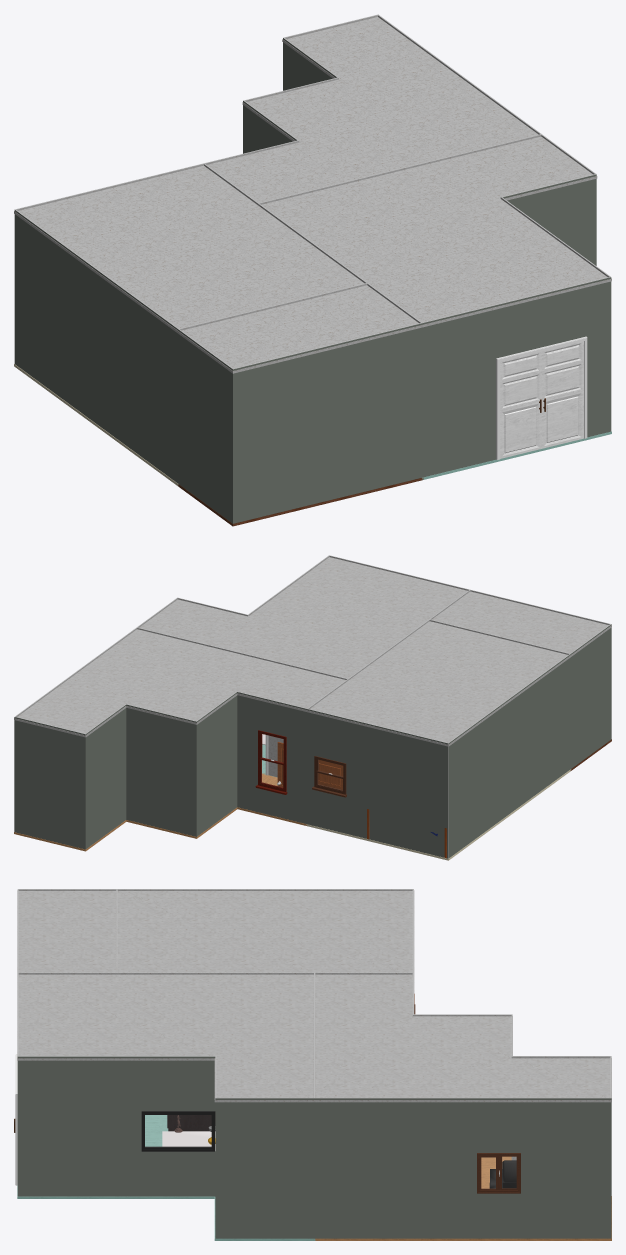
Rendered from ProcTHOR-Train-4.glb.
3 views of the same model, one above another, from view 1: azimuth 30°, elevation 25°; view 2: azimuth 150°, elevation 25°; view 3: azimuth 270°, elevation 25° (orthographic). The views are drawn at different scales.
Visible parts, largest first — view 1: Ceiling#room|6|c, Ceiling#room|4|c, Ceiling#room|7|c, WallInside#wall|exterior|6.15|12.29|10.24|12.29, WallInside#wall|exterior|10.24|4.10|10.24|10.24, WallInside#wall|exterior|2.05|12.29|6.15|12.29, Ceiling#room|5|c, WallInside#wall|exterior|10.24|10.24|10.24|12.29, WallInside#wall|exterior|0.00|8.19|2.05|8.19, Doorway_Door_8a, Doorway_Door_8b, WallInside#wall|exterior|4.10|2.05|4.10|4.10 (+4 smaller); view 2: Ceiling#room|6|c, Ceiling#room|4|c, Ceiling#room|7|c, WallInside#wall|exterior|6.15|4.10|10.24|4.10, WallInside#wall|exterior|10.24|4.10|10.24|10.24, WallInside#wall|exterior|0.00|0.00|2.05|0.00, WallInside#wall|exterior|2.05|2.05|4.10|2.05, WallInside#wall|exterior|4.10|4.10|6.15|4.10, Ceiling#room|5|c, WallInside#wall|exterior|4.10|2.05|4.10|4.10, WallInside#wall|exterior|2.05|0.00|2.05|2.05, WallInside#wall|exterior|10.24|10.24|10.24|12.29 (+6 smaller); view 3: WallInside#wall|exterior|0.00|0.00|0.00|6.15, Ceiling#room|6|c, Ceiling#room|7|c, WallInside#wall|exterior|2.05|8.19|2.05|12.29, Ceiling#room|4|c, WallInside#wall|exterior|0.00|6.15|0.00|8.19, Ceiling#room|5|c, Floor#room|6|f, Floor#room|7|f, Window_Fixed_60x36, Window_Slider_36x36, Dining_Table_227_1 (+3 smaller).
Part boxes in pixels (x1,y1,x2,y2): Ceiling#room|6|c: (258, 136, 611, 327); Ceiling#room|4|c: (14, 165, 363, 332); Ceiling#room|7|c: (207, 17, 540, 204); WallInside#wall|exterior|6.15|12.29|10.24|12.29: (233, 323, 422, 523); WallInside#wall|exterior|10.24|4.10|10.24|10.24: (14, 209, 178, 483); WallInside#wall|exterior|2.05|12.29|6.15|12.29: (421, 277, 611, 477); Ceiling#room|5|c: (177, 285, 423, 373); WallInside#wall|exterior|10.24|10.24|10.24|12.29: (178, 329, 232, 523); WallInside#wall|exterior|0.00|8.19|2.05|8.19: (501, 174, 596, 265); Doorway_Door_8a: (500, 351, 541, 458); Doorway_Door_8b: (542, 341, 583, 448); WallInside#wall|exterior|4.10|2.05|4.10|4.10: (243, 100, 297, 153); Ceiling#room|6|c: (139, 557, 467, 678); Ceiling#room|4|c: (306, 621, 570, 746); Ceiling#room|7|c: (14, 629, 345, 737); WallInside#wall|exterior|6.15|4.10|10.24|4.10: (307, 709, 448, 858); WallInside#wall|exterior|10.24|4.10|10.24|10.24: (448, 654, 570, 858); WallInside#wall|exterior|0.00|0.00|2.05|0.00: (14, 717, 85, 849); WallInside#wall|exterior|2.05|2.05|4.10|2.05: (126, 704, 196, 836); WallInside#wall|exterior|4.10|4.10|6.15|4.10: (237, 692, 307, 824); Ceiling#room|5|c: (431, 591, 611, 656); WallInside#wall|exterior|4.10|2.05|4.10|4.10: (196, 691, 237, 836); WallInside#wall|exterior|2.05|0.00|2.05|2.05: (85, 704, 126, 848); WallInside#wall|exterior|10.24|10.24|10.24|12.29: (570, 624, 611, 768); WallInside#wall|exterior|0.00|0.00|0.00|6.15: (314, 1098, 611, 1238); Ceiling#room|6|c: (17, 974, 315, 1102); Ceiling#room|7|c: (313, 974, 611, 1102); WallInside#wall|exterior|2.05|8.19|2.05|12.29: (17, 1056, 215, 1196); Ceiling#room|4|c: (116, 890, 414, 974); WallInside#wall|exterior|0.00|6.15|0.00|8.19: (215, 1098, 314, 1238); Ceiling#room|5|c: (17, 890, 117, 974); Floor#room|6|f: (17, 1115, 315, 1240); Floor#room|7|f: (315, 1156, 611, 1240); Window_Fixed_60x36: (141, 1111, 214, 1151); Window_Slider_36x36: (477, 1153, 520, 1193); Dining_Table_227_1: (162, 1131, 215, 1150).
Size of what is drawn, in the model's own units: 10.3 by 3.26 by 12.4.
Materials: 296 (134 with a texture image).
